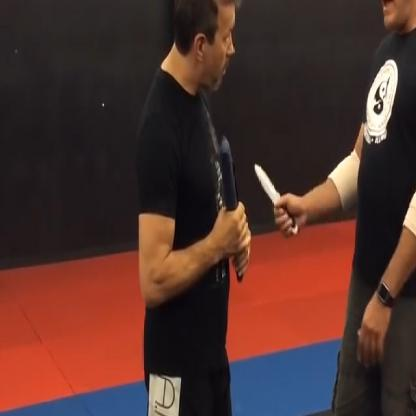knife: (250, 157, 301, 239)
